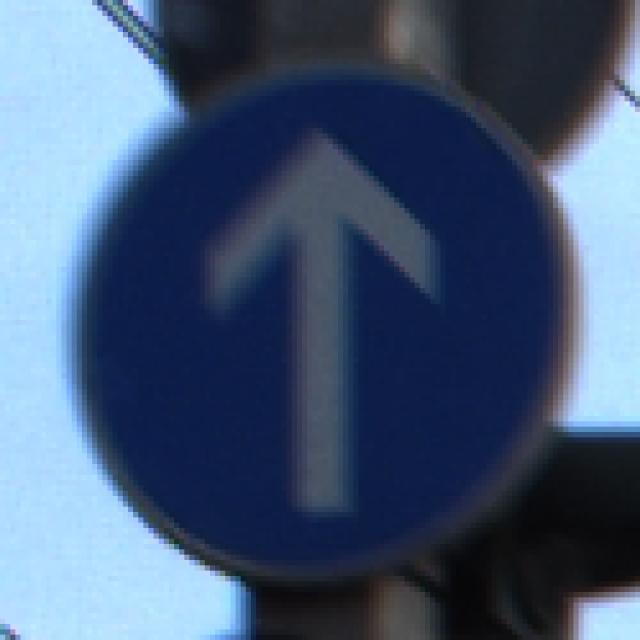compulsary ahead: (63, 51, 584, 587)
